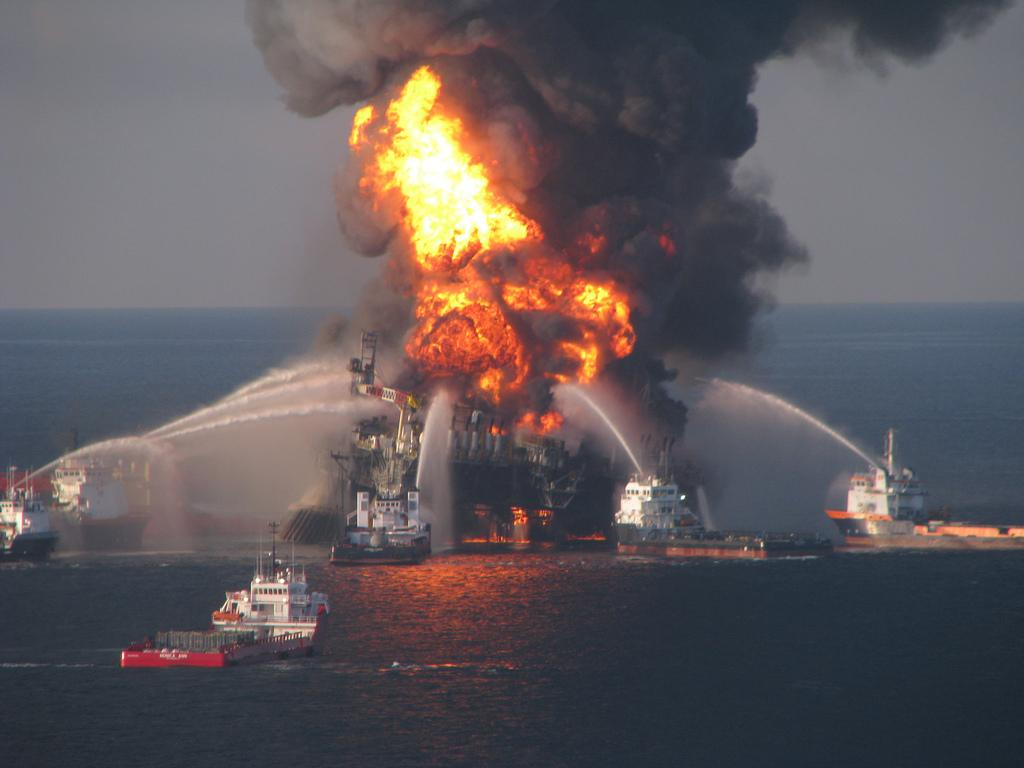fire: (398, 136, 500, 294), (430, 304, 532, 384)
smoke: (550, 18, 728, 204), (260, 8, 384, 100)
